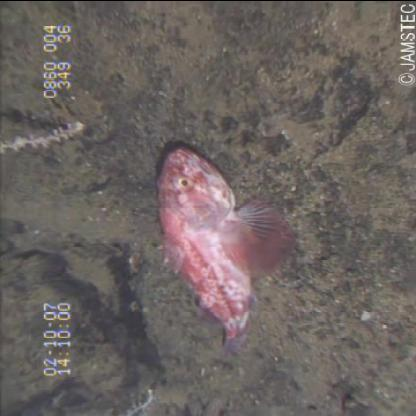Bio: (150, 140, 300, 362)
